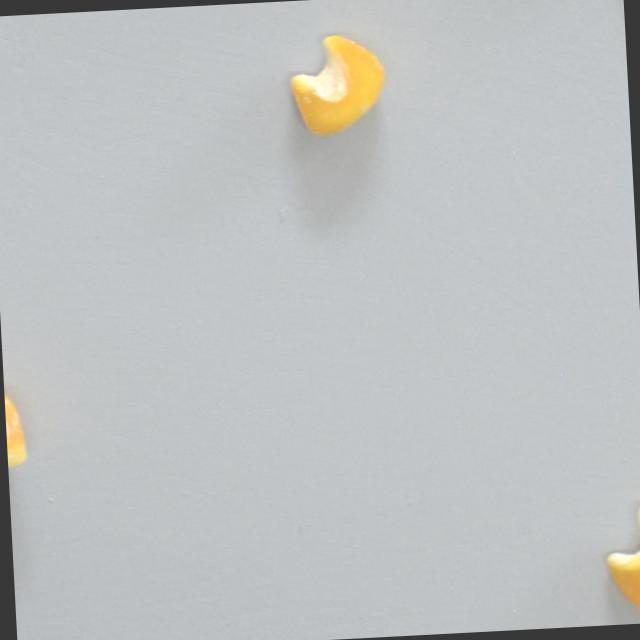no_canjicado: (286, 32, 390, 140), (600, 505, 640, 621)
pelicula: (3, 386, 32, 477)
